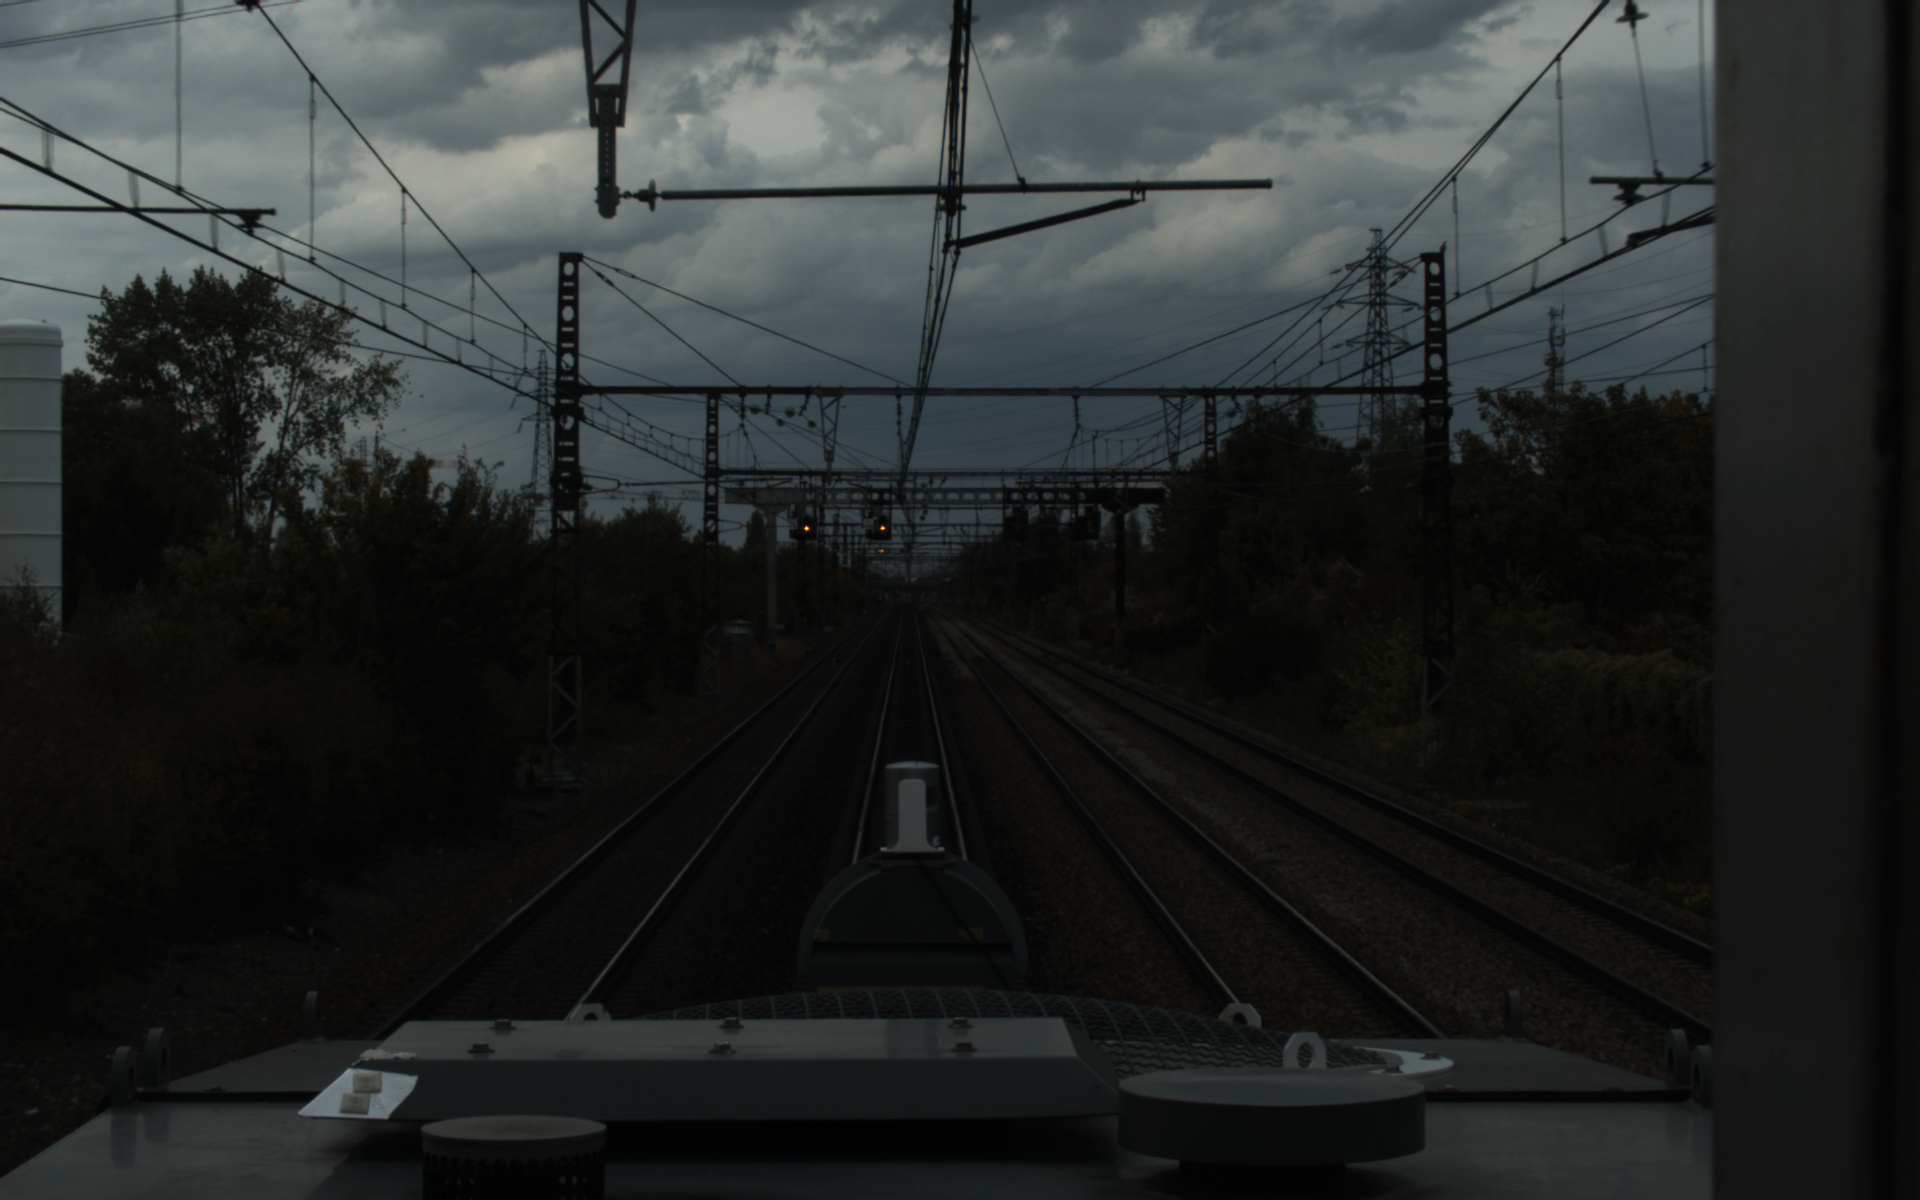Blinking: (875, 513, 890, 536)
Fixed: (799, 513, 813, 534)
